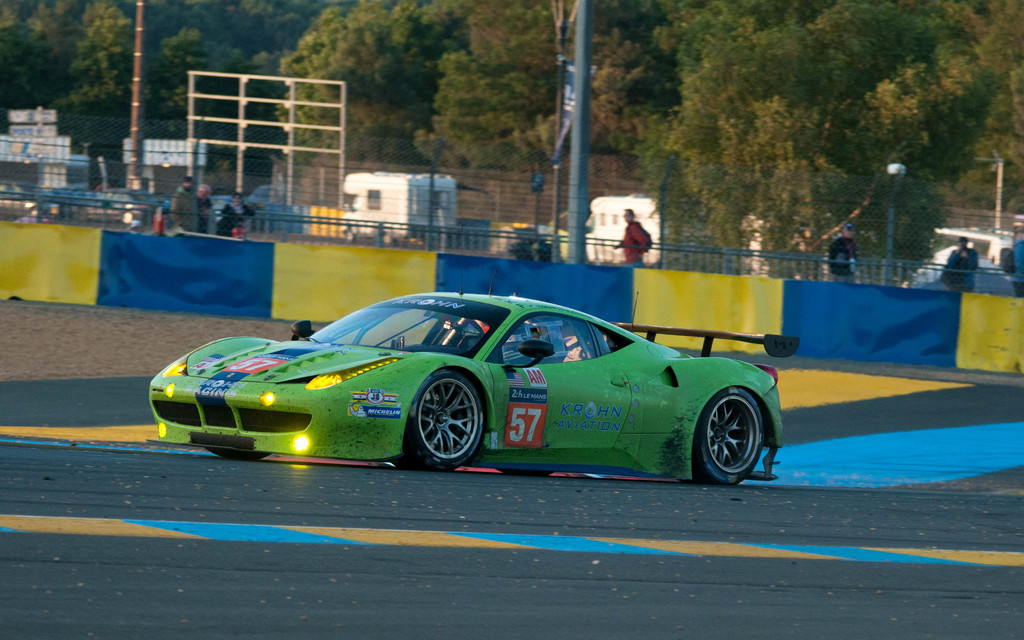Car: (149, 222, 803, 488)
